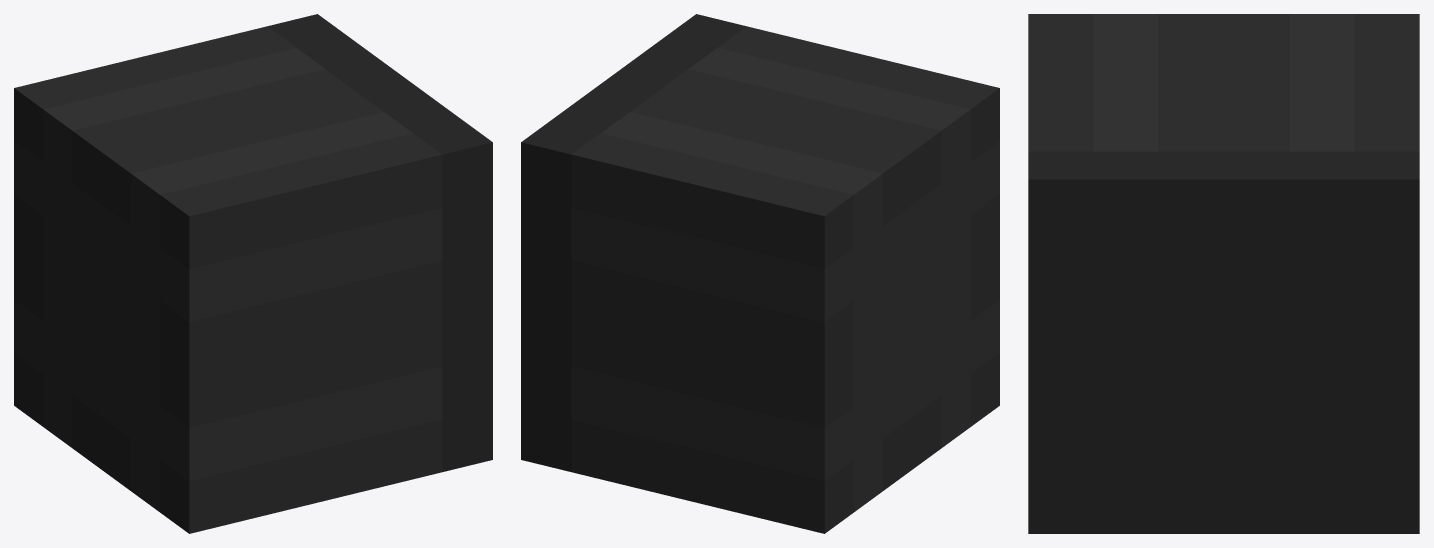
The model's file is Movement Monster-2-Mano.obj.
3 renders of one model, left to right at view 1: azimuth 30°, elevation 25°; view 2: azimuth 150°, elevation 25°; view 3: azimuth 270°, elevation 25°, orthographic. The views are drawn at different scales.
Parts seen in each view (by area): view 1: Mano; view 2: Mano; view 3: Mano.
Boxes of the visible parts, x1=… form: Mano: x1=14, y1=14, x2=492, y2=533; Mano: x1=521, y1=14, x2=999, y2=533; Mano: x1=1028, y1=14, x2=1419, y2=533.
Bounding box in the file's own units: 0.6 × 0.6 × 0.6.
Materials: 1 (1 with a texture image).
